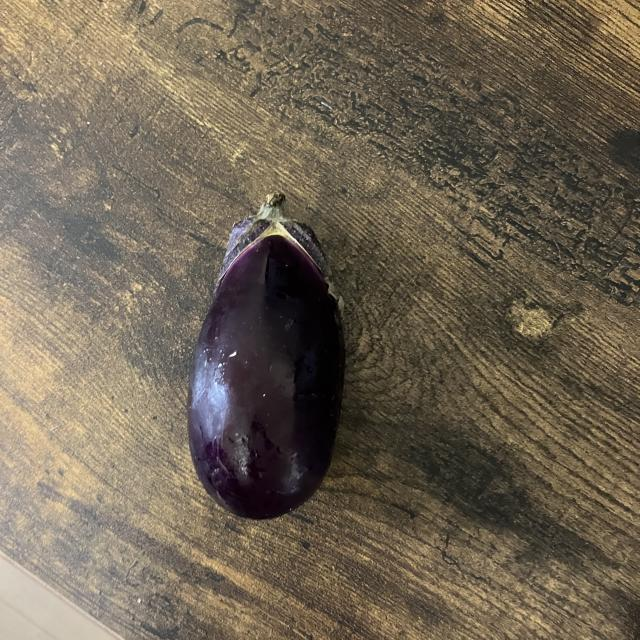eggplant: (184, 187, 344, 524)
